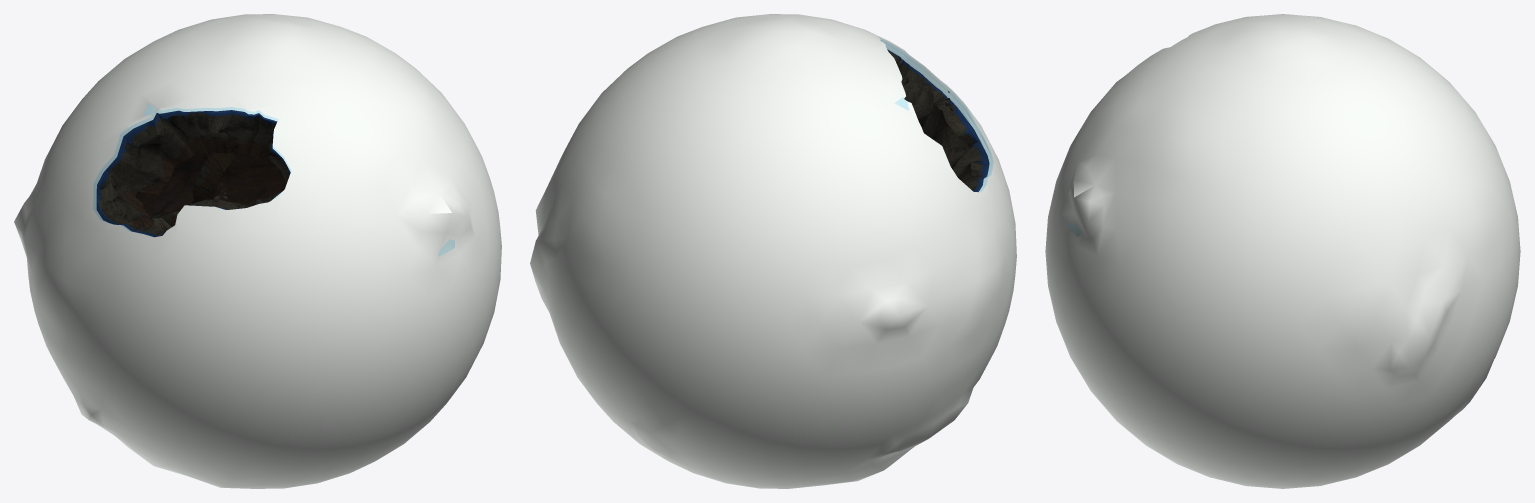
File: Union 5.fbx
The picture shows the model from 3 angles, left to right: view 1: azimuth 30°, elevation 25°; view 2: azimuth 150°, elevation 25°; view 3: azimuth 270°, elevation 25°; orthographic projection.
Parts seen in each view (by area): view 1: Union_5; view 2: Union_5; view 3: Union_5.
Boxes of the visible parts, <box> form: Union_5: <box>14,14,501,488</box>; Union_5: <box>530,14,1016,488</box>; Union_5: <box>1045,14,1520,488</box>.
Size of the model in its own units: 10462 by 10450 by 10353.
